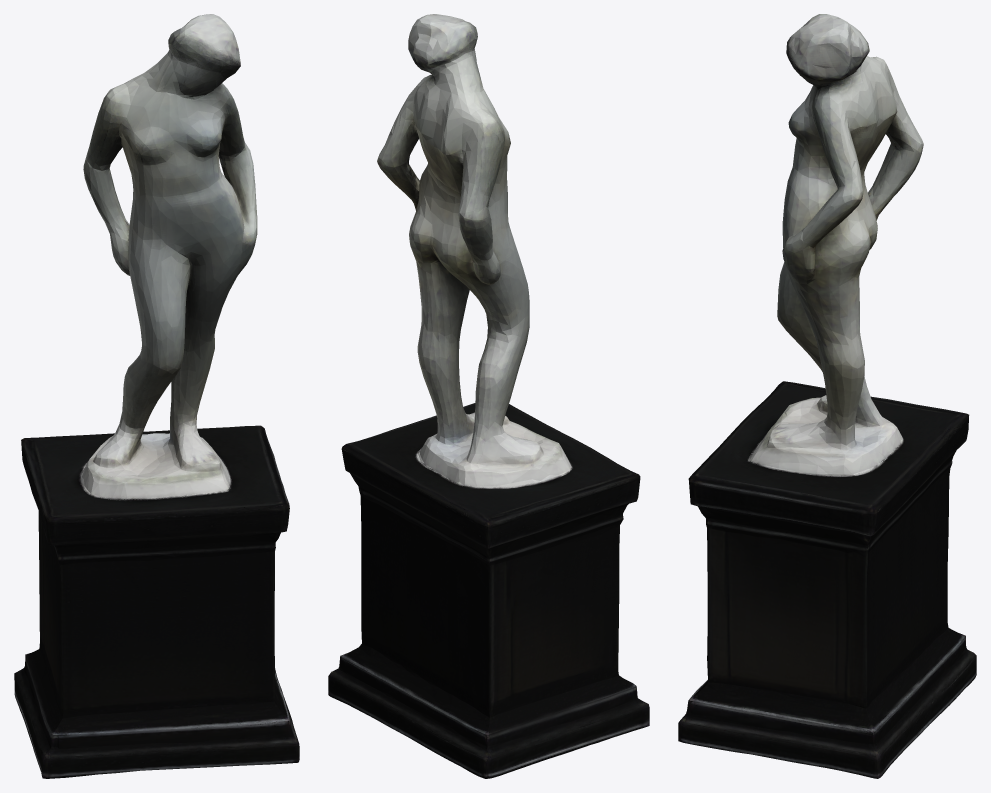
The model's file is after.glb.
3 renders of one model, left to right at view 1: azimuth 30°, elevation 25°; view 2: azimuth 150°, elevation 25°; view 3: azimuth 270°, elevation 25°, orthographic. The views are drawn at different scales.
Parts seen in each view (by area): view 1: world; view 2: world; view 3: world.
Boxes of the visible parts, box(x1,y1,x2,y2) form: world: box(14, 14, 299, 778); world: box(328, 14, 649, 778); world: box(678, 14, 976, 778).
Size of the model in its own units: 0.4201 by 0.9993 by 0.3801.
Materials: 1 (1 with a texture image).
